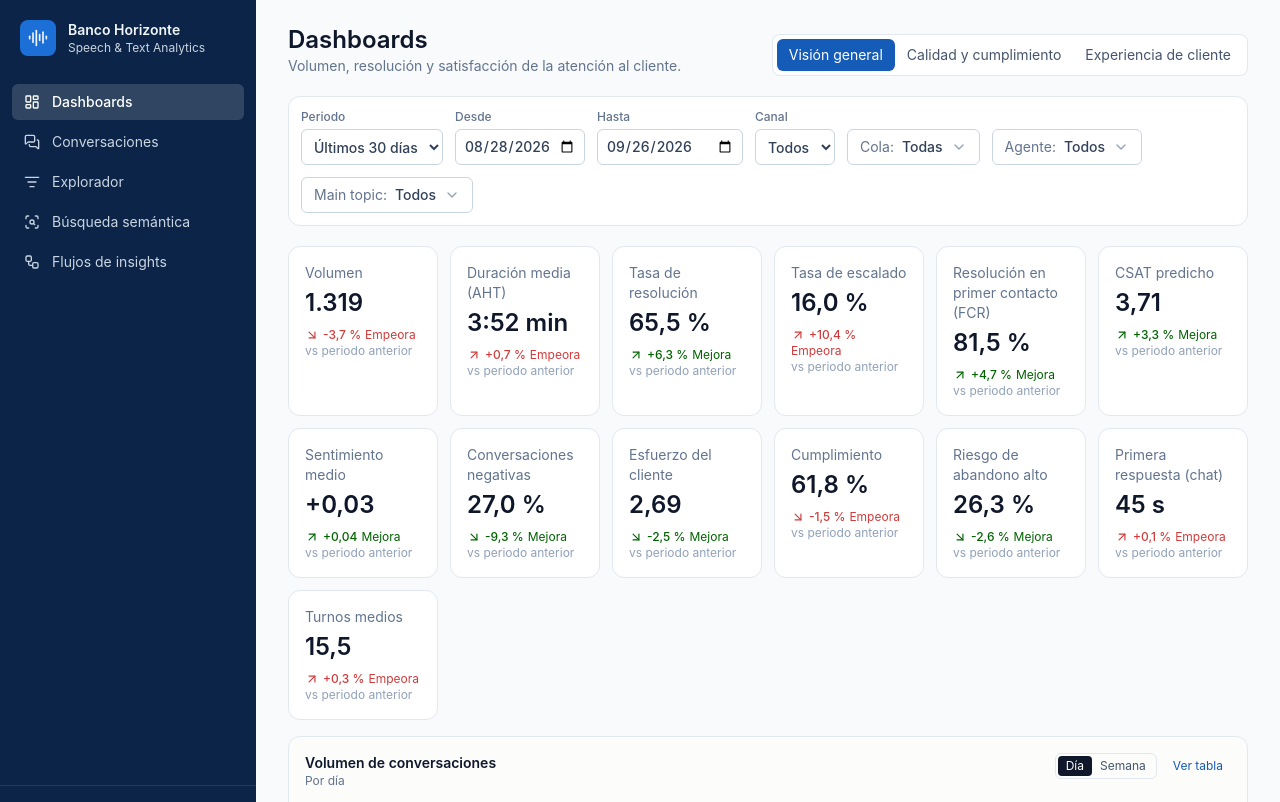
Scenario: dashboards › el dashboard Calidad y cumplimiento muestra sus widgets
expect the heading "Dashboards" is shown: met, box [288,25,428,54]
Step 1. Click the link "Calidad y cumplimiento" → x=984, y=54, box [907,46,1061,63]
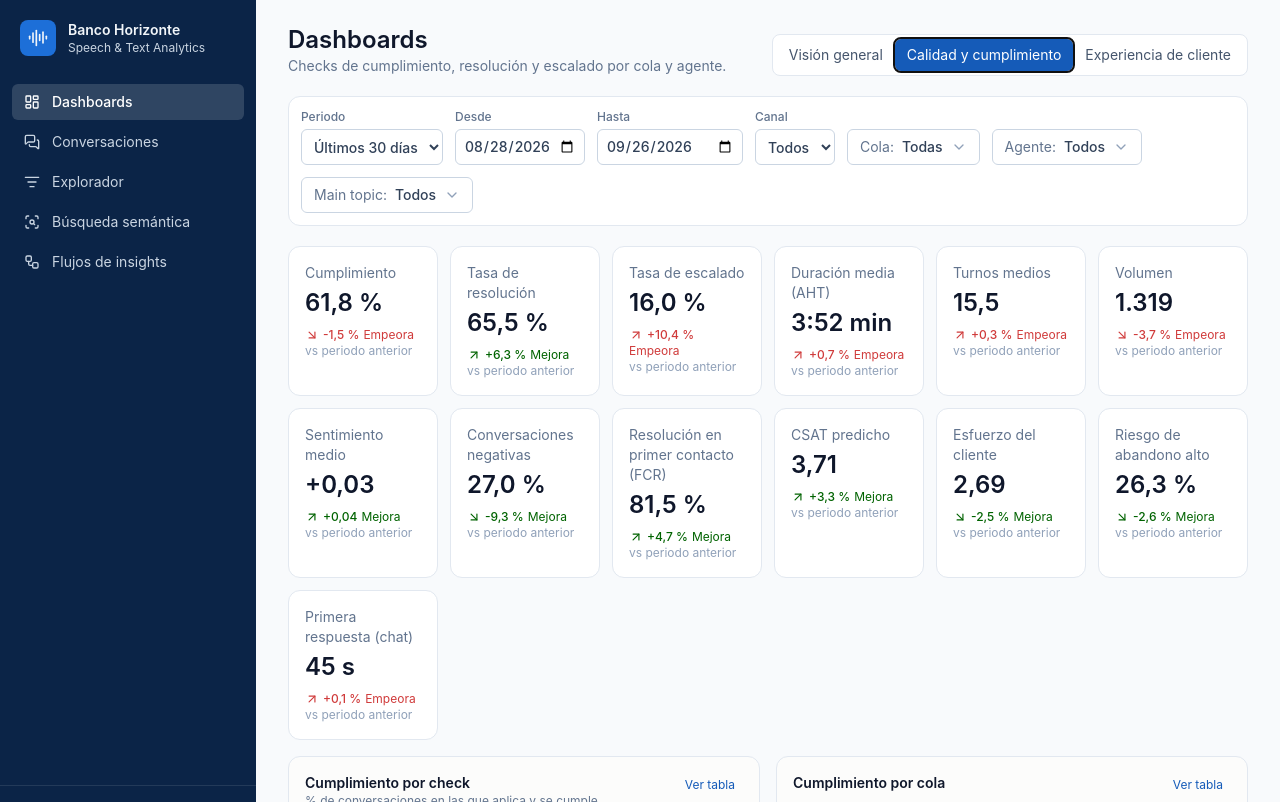
expect the element "Cumplimiento" is shown: met, box [288,246,438,396]
expect the heading "Cumplimiento por check" is shown: met, box [305,774,470,791]
expect the heading "Cumplimiento por cola" is shown: met, box [793,773,945,793]
